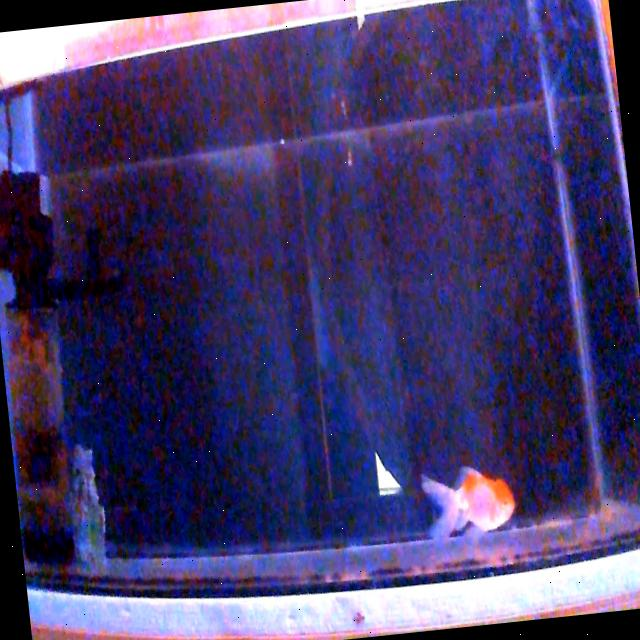fish: (420, 461, 520, 546)
